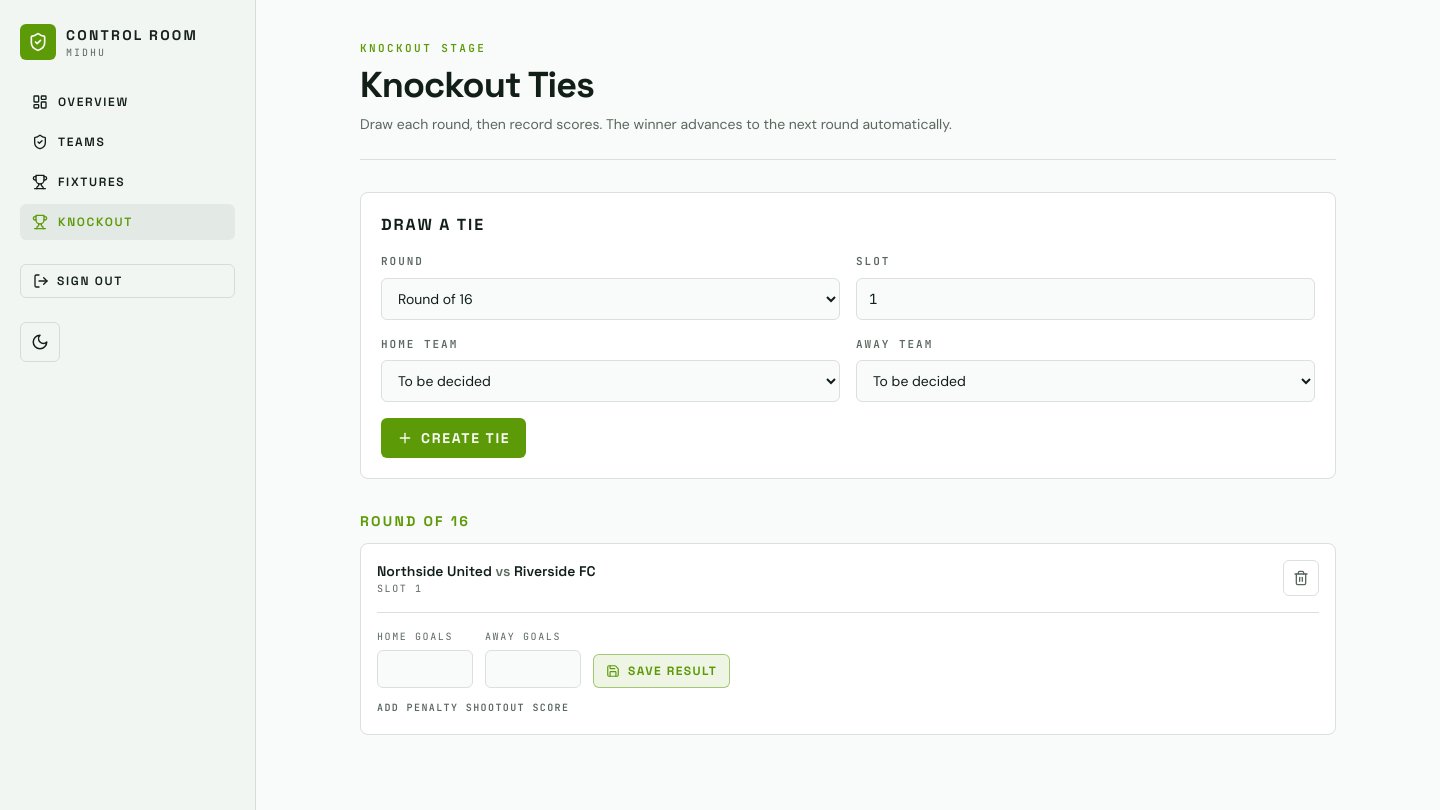
it: AdminBracketPage › records a tie result and advances the winner automatically
Type "2" into the number field with test id "admin.tie_home_goals_input.1" at (425, 669), box [377,650,473,688]
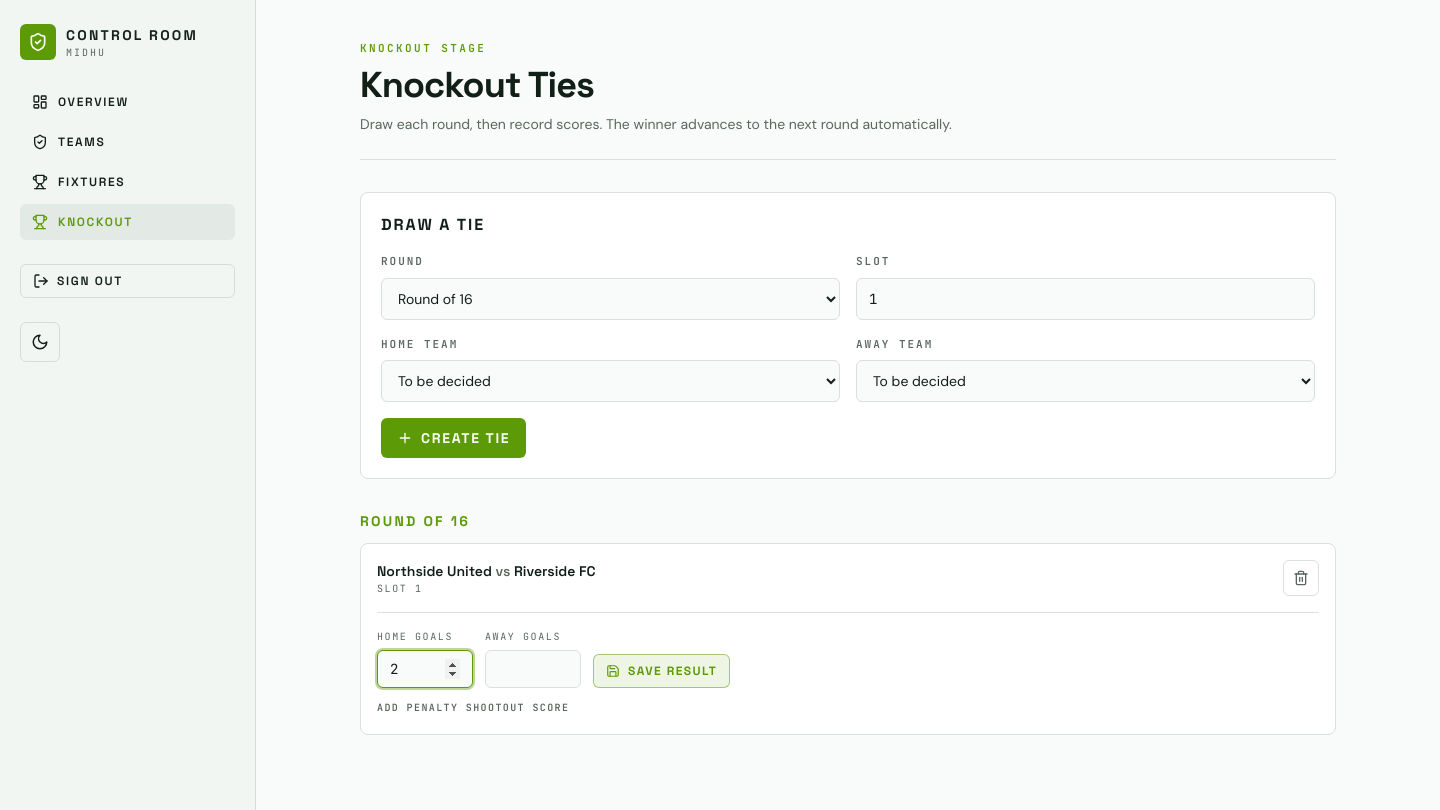
Type "0" into the number field with test id "admin.tie_away_goals_input.1" at (533, 669), box [485,650,581,688]
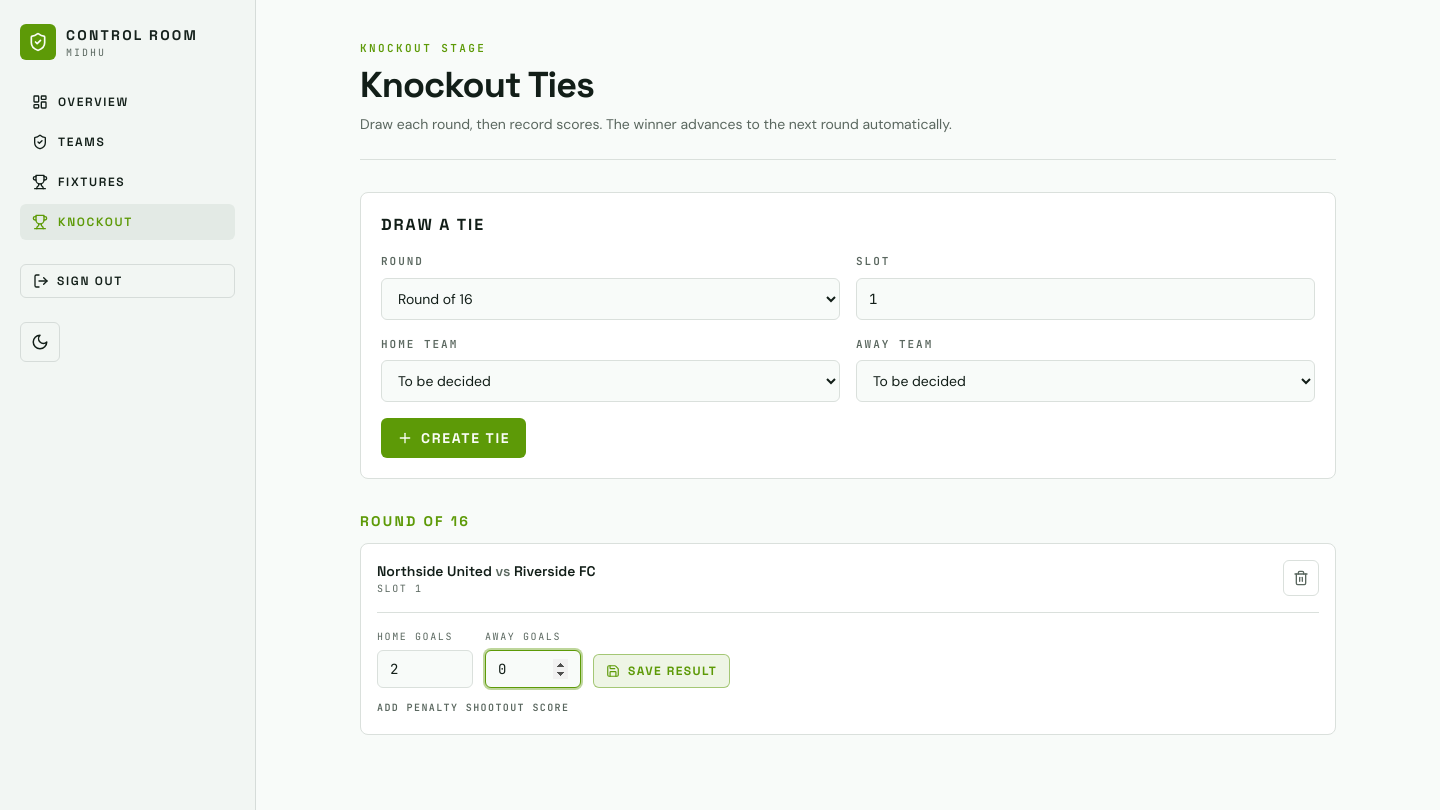
Click the button with test id "admin.tie_save_result_button.1" at (662, 671), box [593,654,730,688]
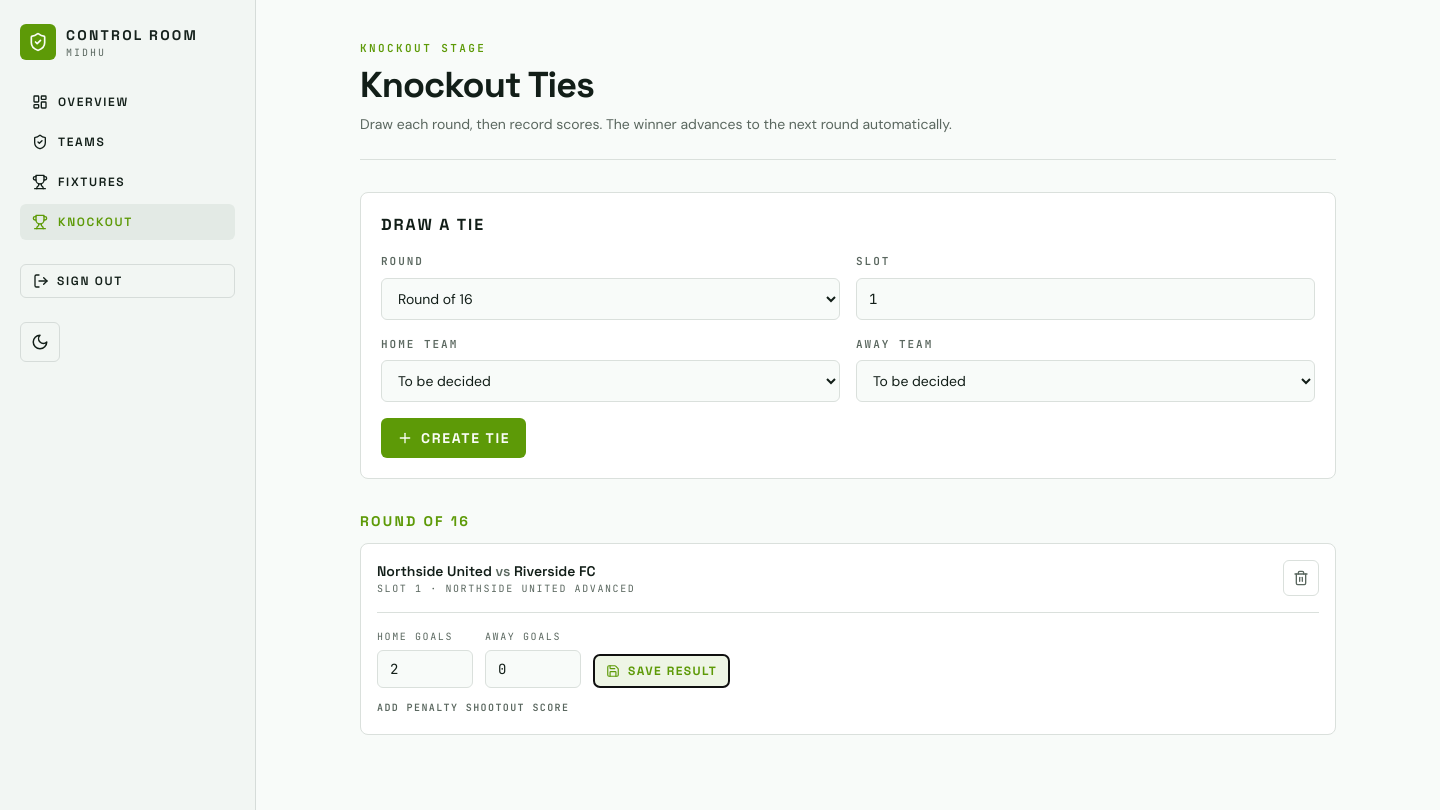
expect the text "Slot 1 · Northside United advanced" is shown: met, box [377,581,635,596]
